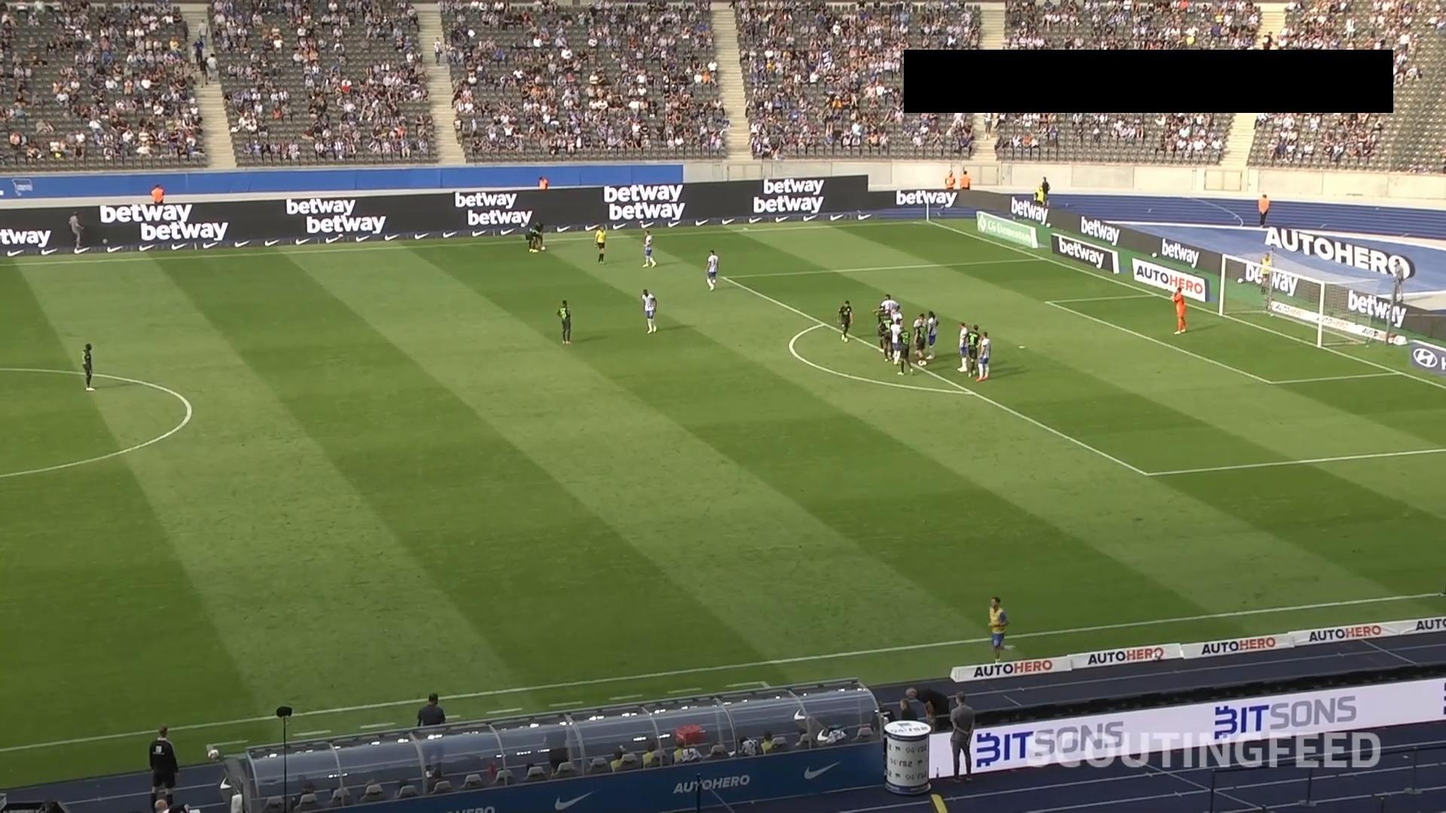ball: (541, 246, 546, 251)
goalkeeper: (1169, 285, 1190, 336)
player: (639, 288, 660, 333), (896, 324, 913, 379), (877, 291, 898, 335), (555, 299, 574, 347), (836, 298, 854, 342), (81, 340, 96, 389), (704, 250, 721, 292), (880, 314, 893, 363), (915, 312, 928, 360), (926, 310, 938, 361), (916, 321, 929, 367), (968, 322, 978, 381), (958, 321, 969, 373), (979, 331, 990, 382), (892, 316, 903, 364), (642, 230, 655, 269), (532, 219, 547, 252), (892, 305, 902, 354), (525, 227, 540, 254)
referee: (595, 225, 608, 268)
